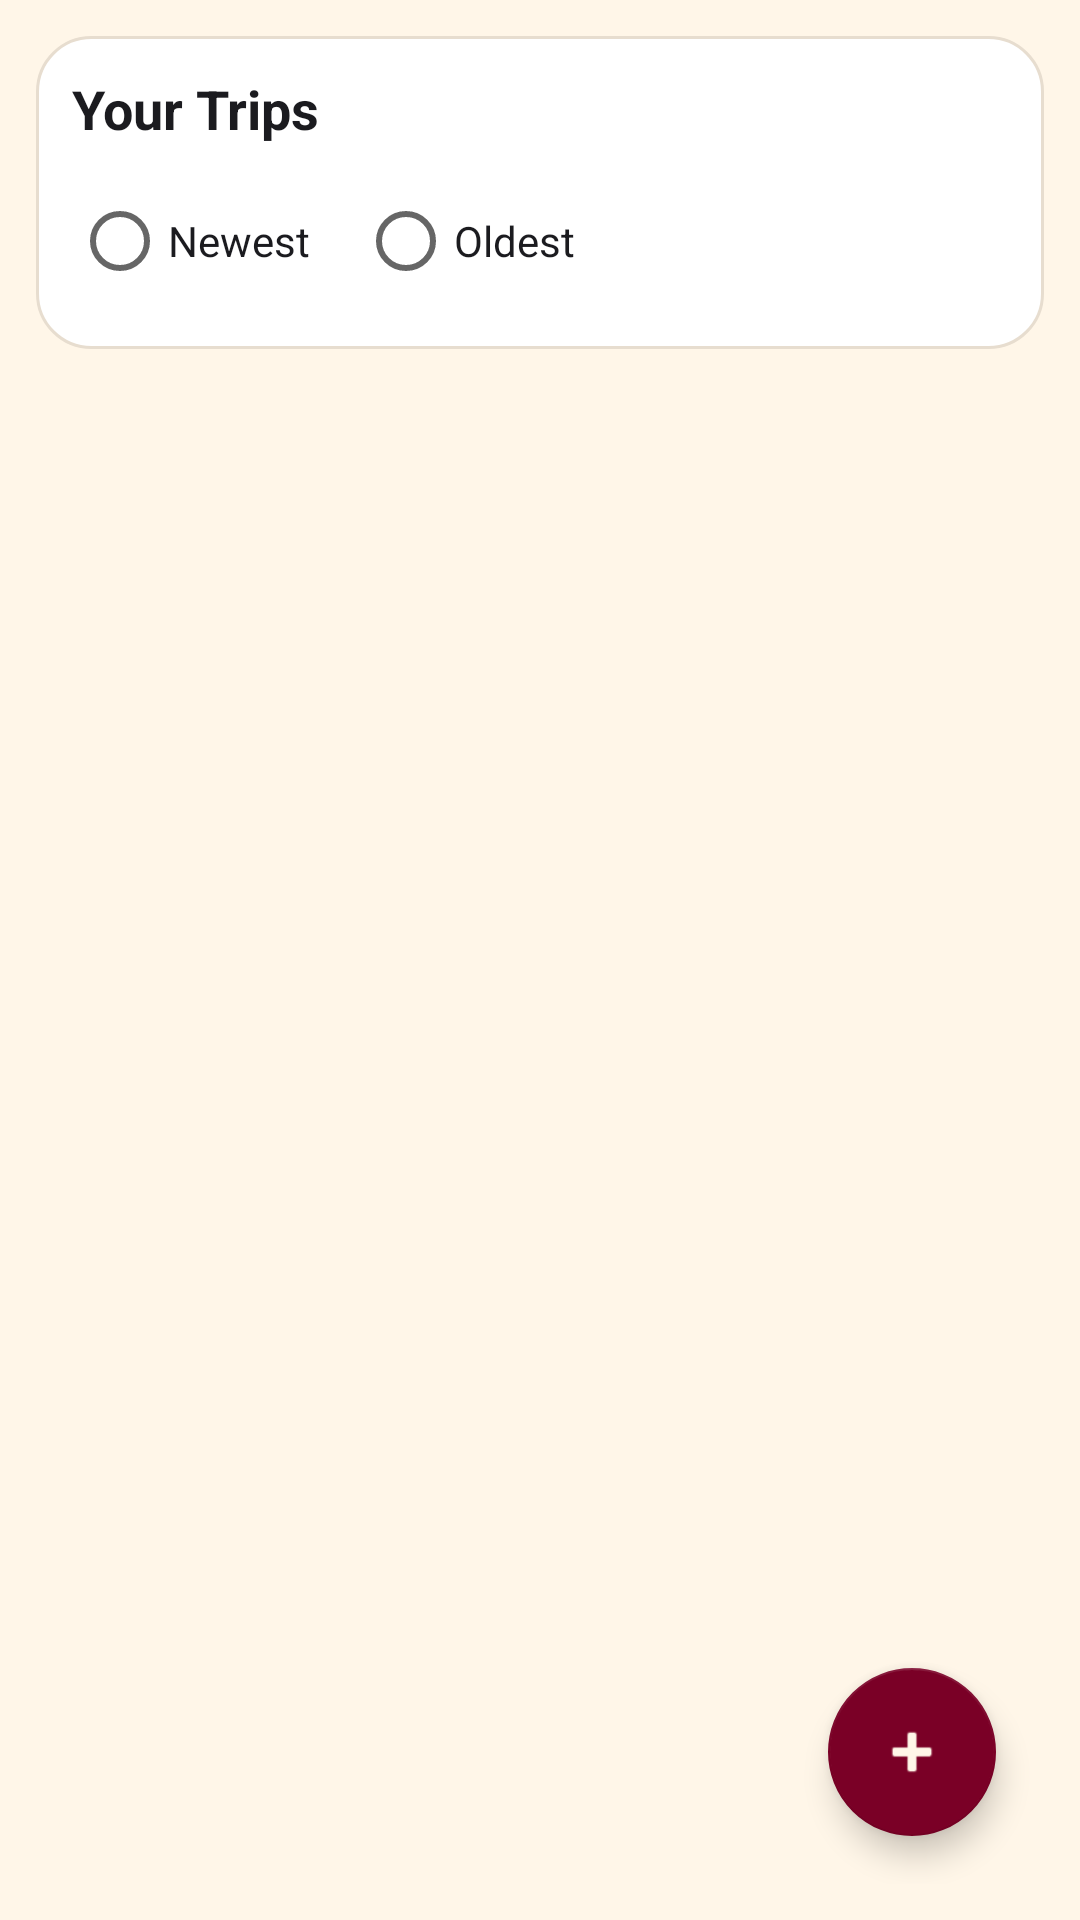

Screen size 1080px×1920px. Icon name, then its center in pixels as [x,y]:
Add: [912,1752]
